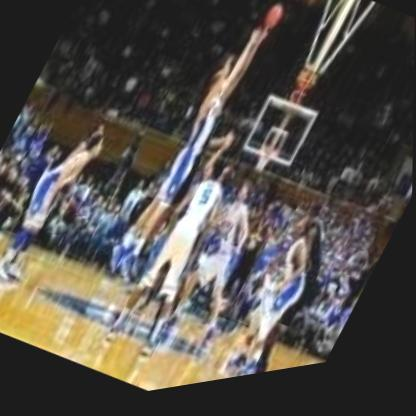basketball: (258, 5, 289, 41)
